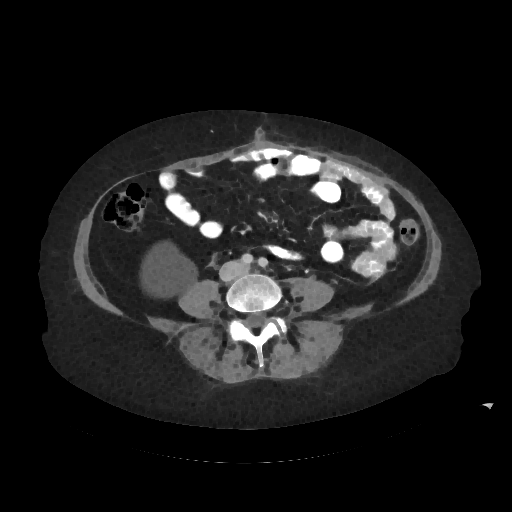Lesion: (132, 235, 201, 307)
